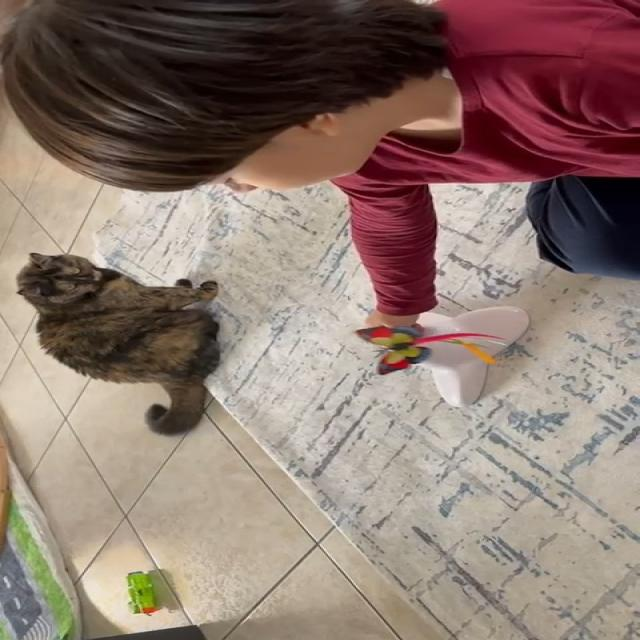authorized: (15, 252, 221, 436)
